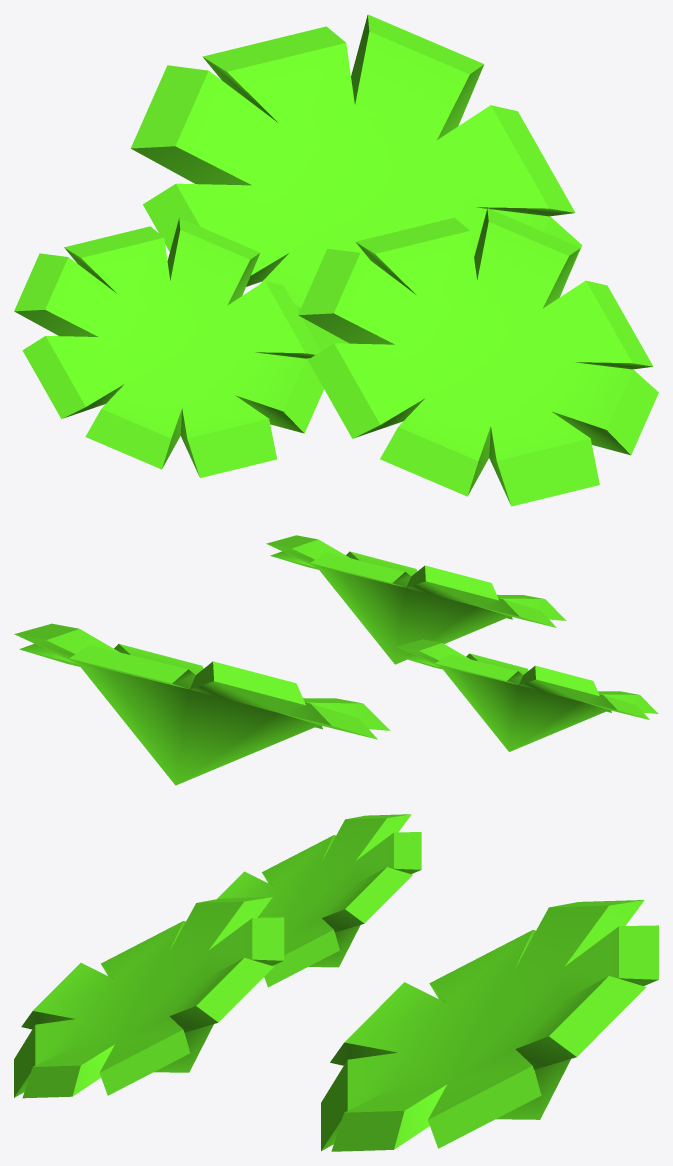
Rendered from SM_Flower_12.FBX.
The picture shows the model from 3 angles, top to bottom: view 1: azimuth 30°, elevation 25°; view 2: azimuth 150°, elevation 25°; view 3: azimuth 270°, elevation 25°; orthographic projection. The views are drawn at different scales.
Visible parts, largest first — view 1: 12; view 2: 12; view 3: 12.
Part boxes in pixels (bbox=[...]): 12: bbox=[14, 14, 658, 506]; 12: bbox=[14, 535, 658, 785]; 12: bbox=[14, 814, 658, 1151].
Size of the model in its own units: 2.53 by 0.8217 by 2.59.
